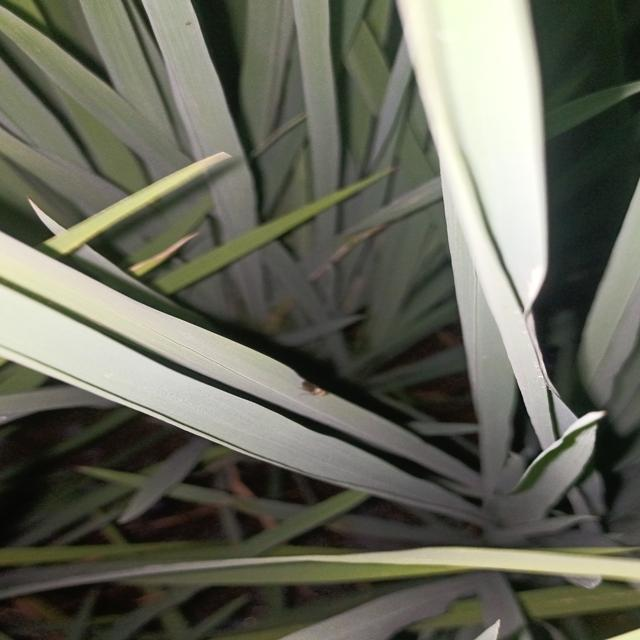healthy: (293, 371, 334, 406)
